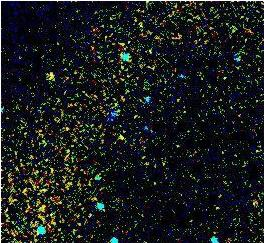star: (37, 62, 67, 92)
